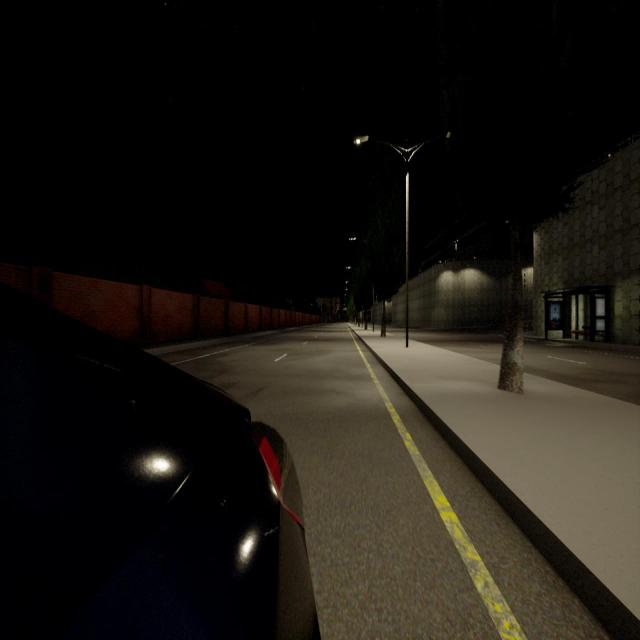Vehicle: (0, 298, 310, 638)
